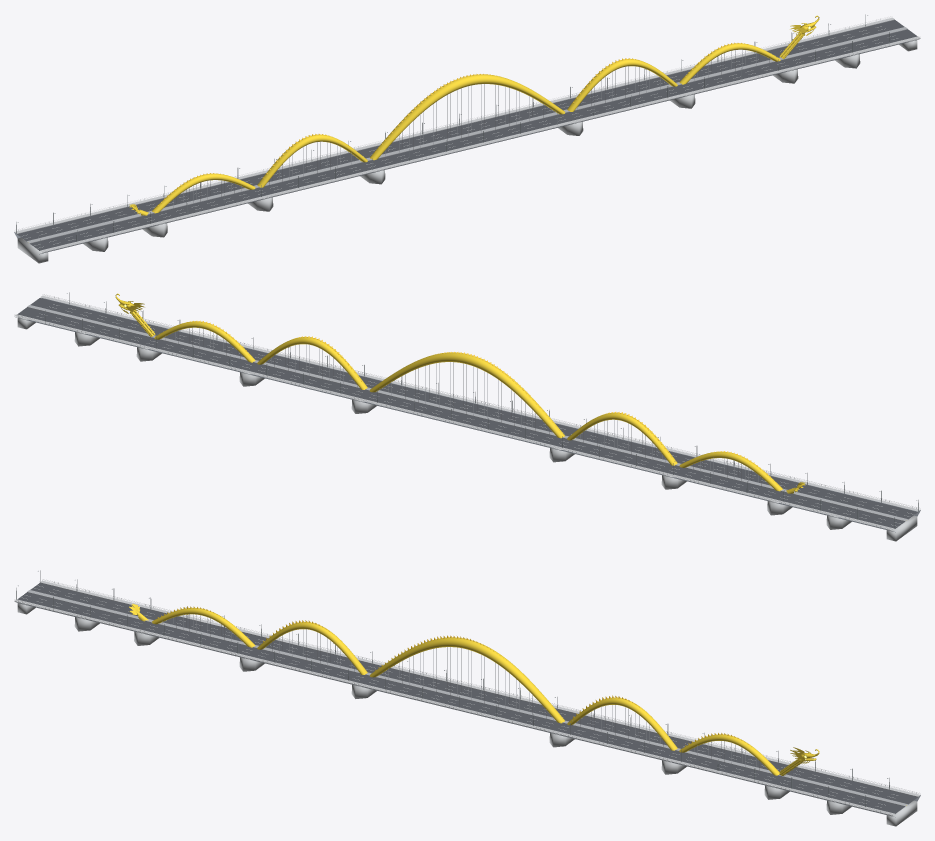
The model's file is cau-rong.glb.
The picture shows the model from 3 angles, top to bottom: view 1: azimuth 30°, elevation 25°; view 2: azimuth 150°, elevation 25°; view 3: azimuth 330°, elevation 25°; orthographic projection.
Visible parts, largest first — view 1: cau-rong_roadway, cau-rong_dragon-body-spine, cau-rong_sidewalk, cau-rong_curb, cau-rong_piers, cau-rong_suspension-cables, cau-rong_girder, cau-rong_railings, cau-rong_stripes-white, cau-rong_lamp-posts, cau-rong_dragon-dorsal-fins; view 2: cau-rong_roadway, cau-rong_dragon-body-spine, cau-rong_sidewalk, cau-rong_curb, cau-rong_piers, cau-rong_girder, cau-rong_suspension-cables, cau-rong_railings, cau-rong_stripes-white, cau-rong_lamp-posts, cau-rong_dragon-dorsal-fins; view 3: cau-rong_roadway, cau-rong_dragon-body-spine, cau-rong_sidewalk, cau-rong_curb, cau-rong_piers, cau-rong_suspension-cables, cau-rong_girder, cau-rong_railings, cau-rong_stripes-white, cau-rong_lamp-posts, cau-rong_dragon-dorsal-fins.
Part boxes in pixels (box(x1,y1,x2,y2)): cau-rong_roadway: box(17, 20, 917, 250); cau-rong_dragon-body-spine: box(152, 43, 780, 213); cau-rong_sidewalk: box(15, 17, 920, 252); cau-rong_curb: box(17, 19, 920, 252); cau-rong_piers: box(17, 39, 917, 263); cau-rong_suspension-cables: box(173, 49, 769, 208); cau-rong_girder: box(14, 39, 919, 254); cau-rong_railings: box(18, 16, 917, 251); cau-rong_stripes-white: box(22, 26, 897, 248); cau-rong_lamp-posts: box(16, 14, 889, 250); cau-rong_dragon-dorsal-fins: box(157, 42, 748, 206); cau-rong_roadway: box(17, 298, 917, 528); cau-rong_dragon-body-spine: box(154, 321, 782, 491); cau-rong_sidewalk: box(14, 295, 919, 530); cau-rong_curb: box(27, 305, 907, 521); cau-rong_piers: box(17, 317, 917, 541); cau-rong_girder: box(15, 298, 920, 532); cau-rong_suspension-cables: box(165, 327, 761, 486); cau-rong_railings: box(17, 294, 916, 529); cau-rong_stripes-white: box(37, 304, 912, 526); cau-rong_lamp-posts: box(45, 292, 918, 528); cau-rong_dragon-dorsal-fins: box(186, 320, 777, 484); cau-rong_roadway: box(17, 583, 917, 813); cau-rong_dragon-body-spine: box(152, 608, 779, 775); cau-rong_sidewalk: box(14, 580, 919, 815); cau-rong_curb: box(14, 582, 917, 815); cau-rong_piers: box(17, 602, 917, 826); cau-rong_suspension-cables: box(162, 614, 759, 770); cau-rong_girder: box(16, 602, 920, 817); cau-rong_railings: box(17, 579, 918, 813); cau-rong_stripes-white: box(22, 585, 897, 807); cau-rong_lamp-posts: box(16, 570, 889, 806); cau-rong_dragon-dorsal-fins: box(157, 606, 751, 746).
Bounding box in the file's own units: 666 × 54.97 × 37.5.
